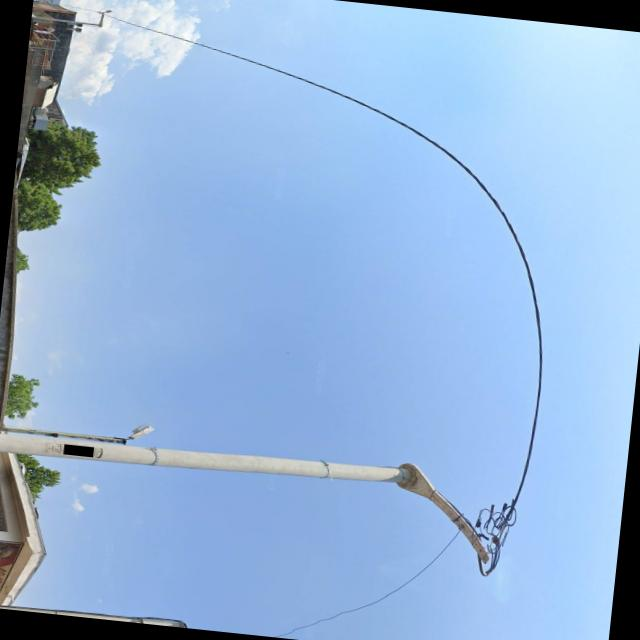Utility Pole Information Plate: (62, 444, 92, 457)
